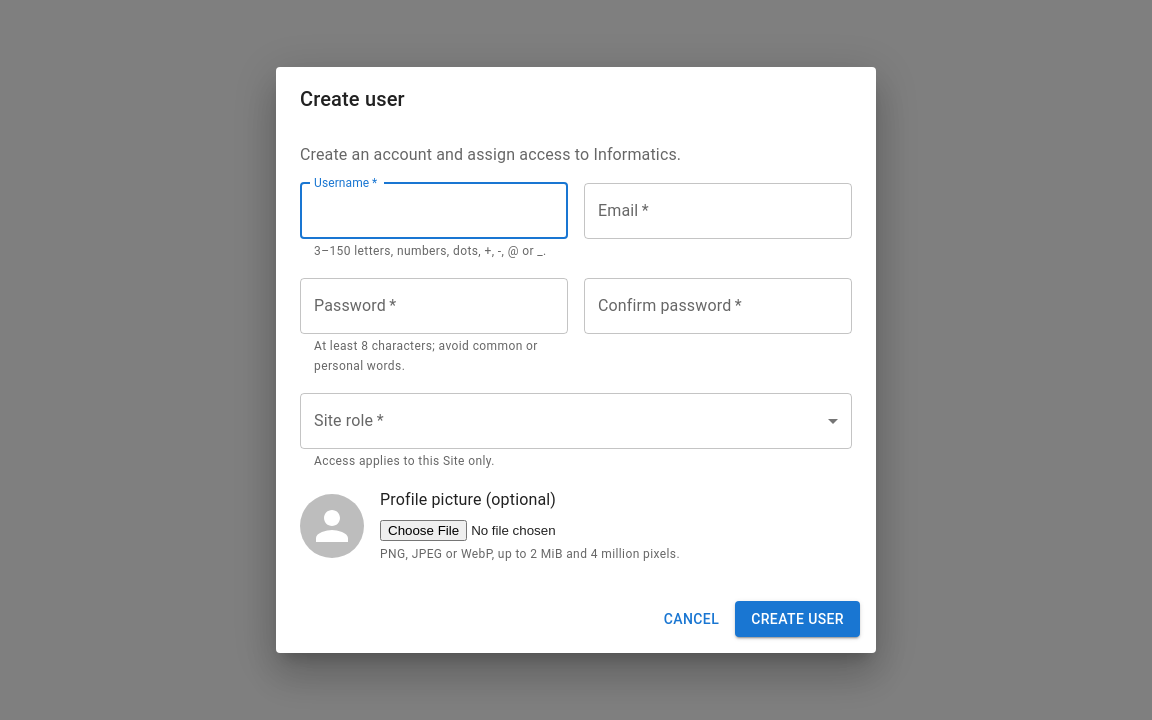
it: preserves inputs and focuses the field on recoverable rejection
In the field labelled "Username *": x=434, y=211 x1=300 y1=183 x2=568 y2=239, type "new.staff"
In the field labelled "Email *": x=718, y=211 x1=584 y1=183 x2=852 y2=239, type "new@example.edu"
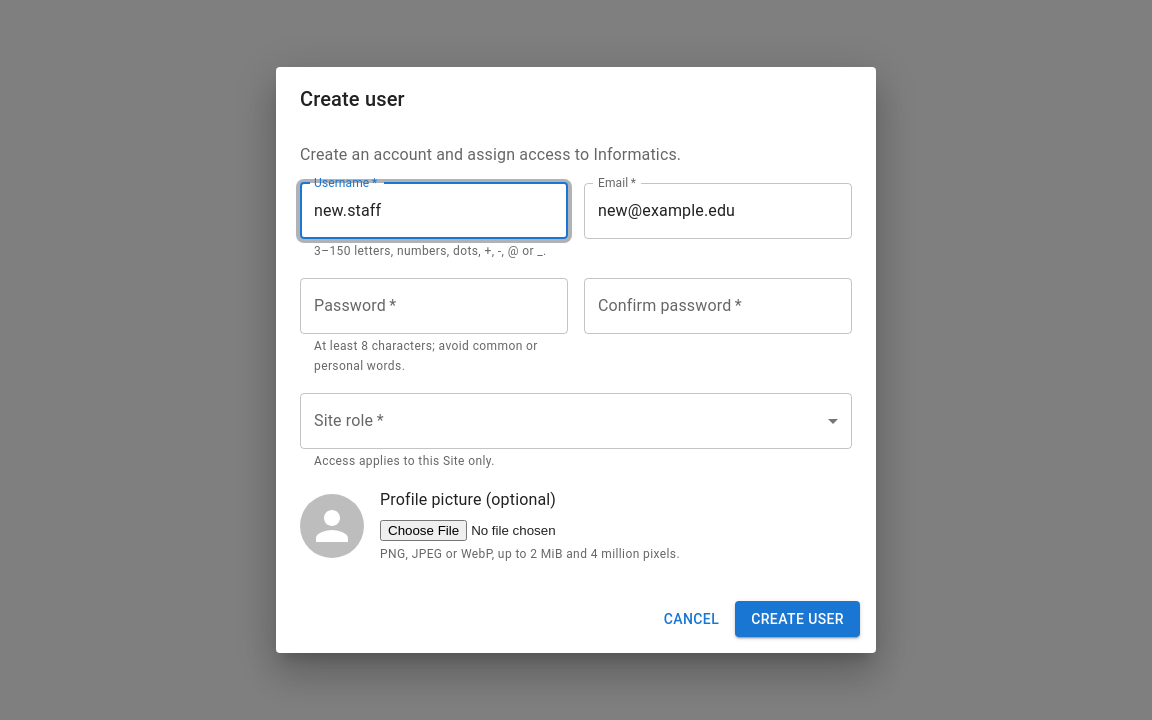
In the password field labelled "Password *": x=434, y=306 x1=300 y1=278 x2=568 y2=334, type "Campus!57832"
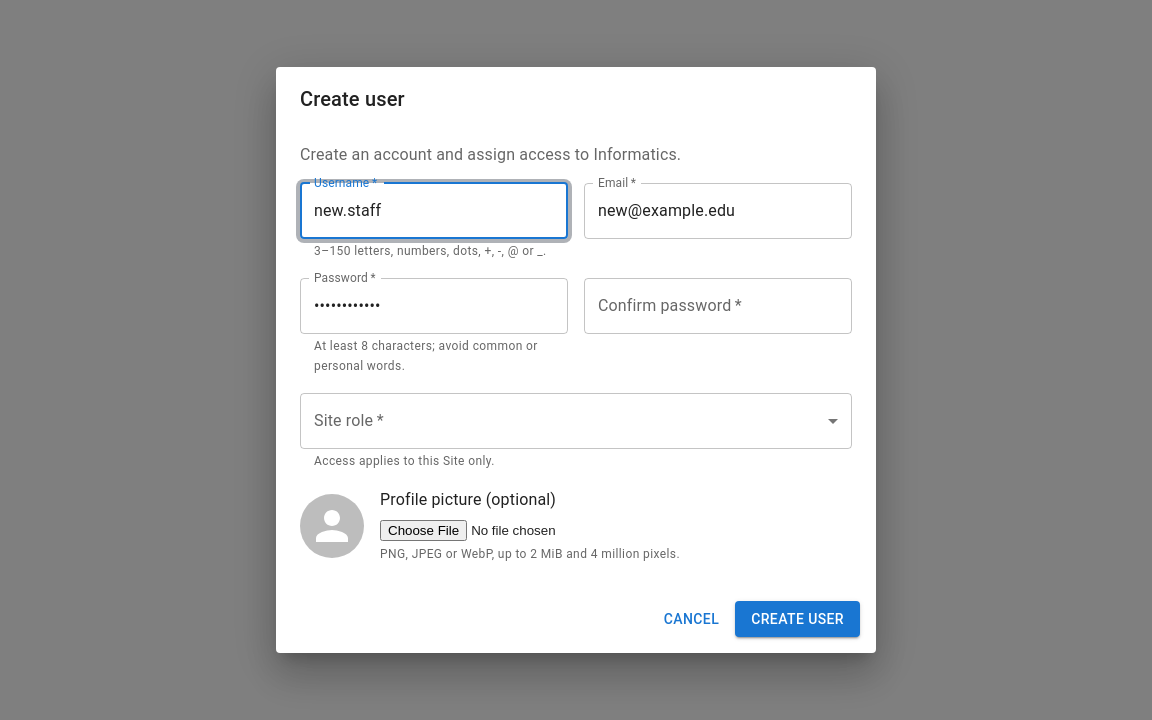
In the password field labelled "Confirm password *": x=718, y=306 x1=584 y1=278 x2=852 y2=334, type "Campus!57832"
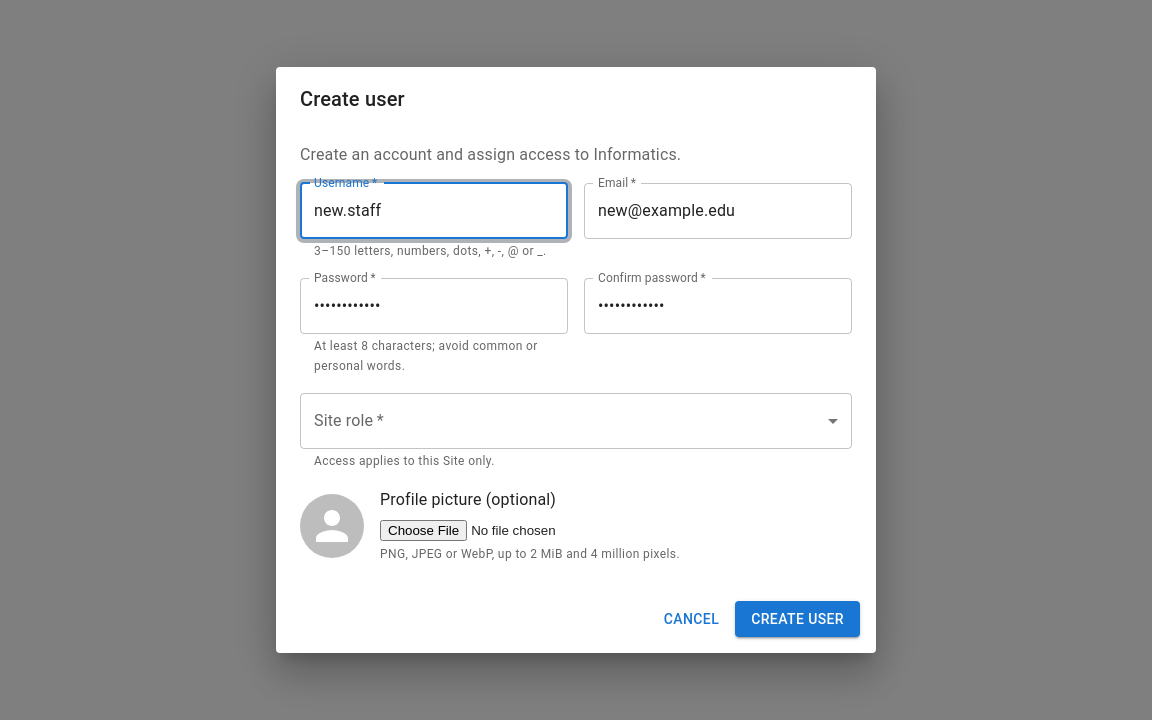
Press the mouse on the dropdown named "Site role": x=576, y=421 x1=300 y1=393 x2=852 y2=449
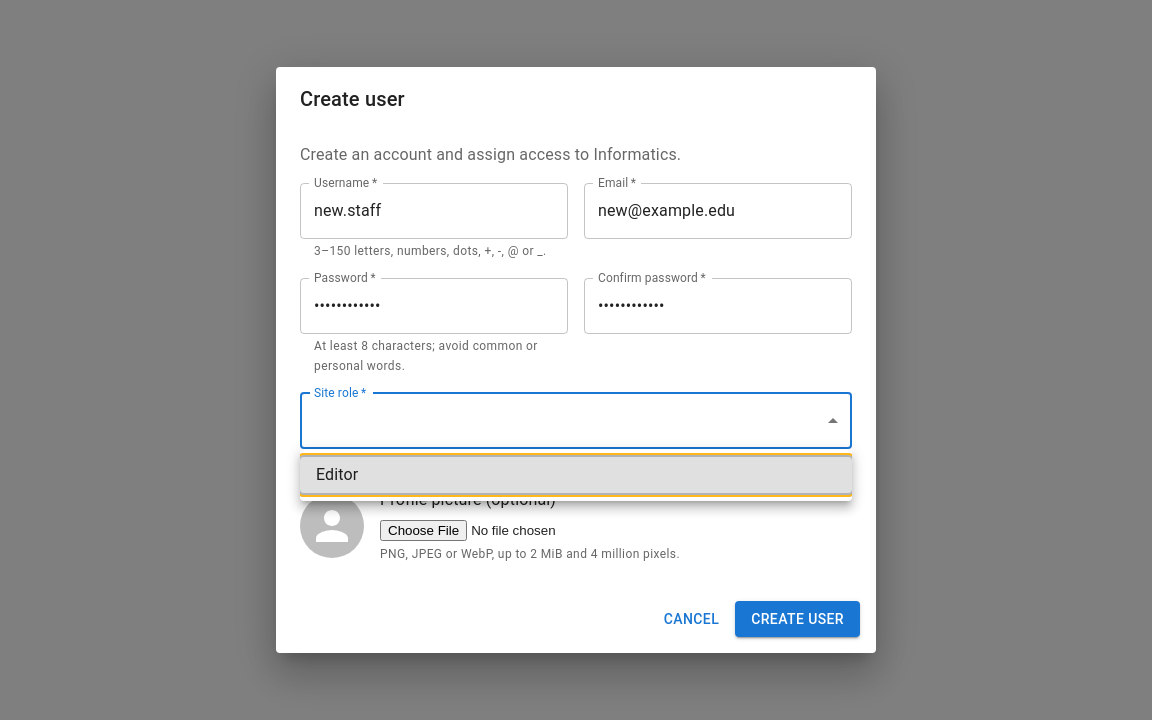
Click the option "Editor": x=337, y=474 x1=300 y1=457 x2=852 y2=493
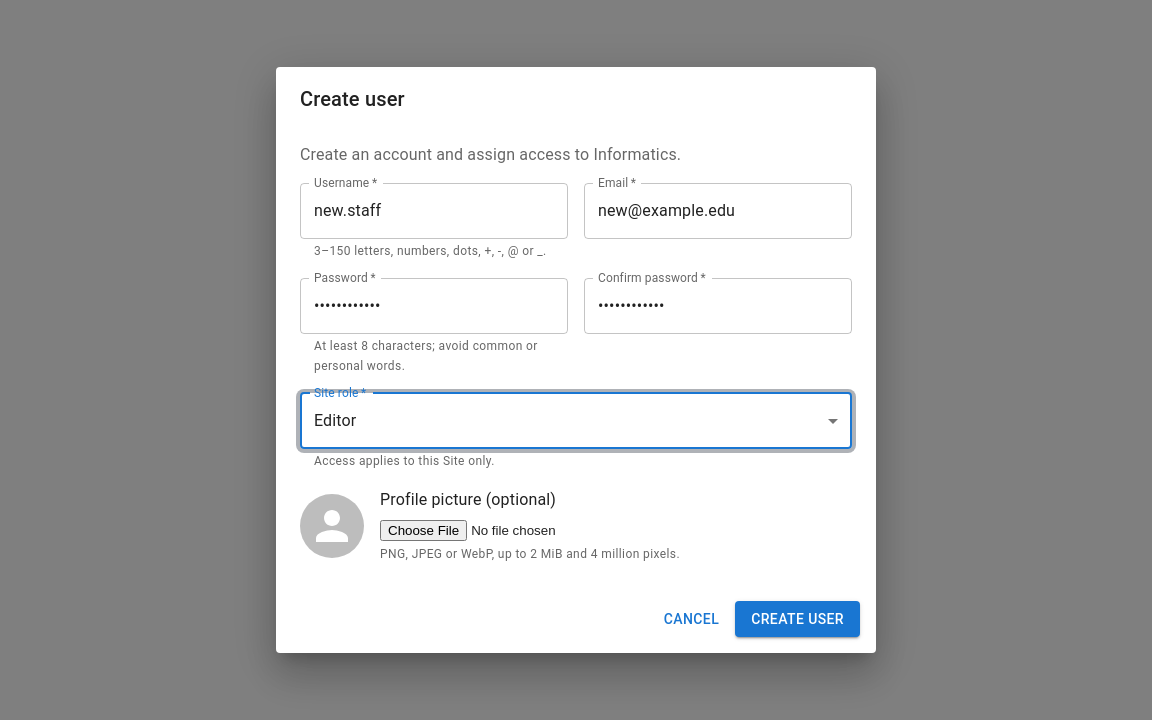
Submit the form, box x1=276 y1=67 x2=876 y2=653
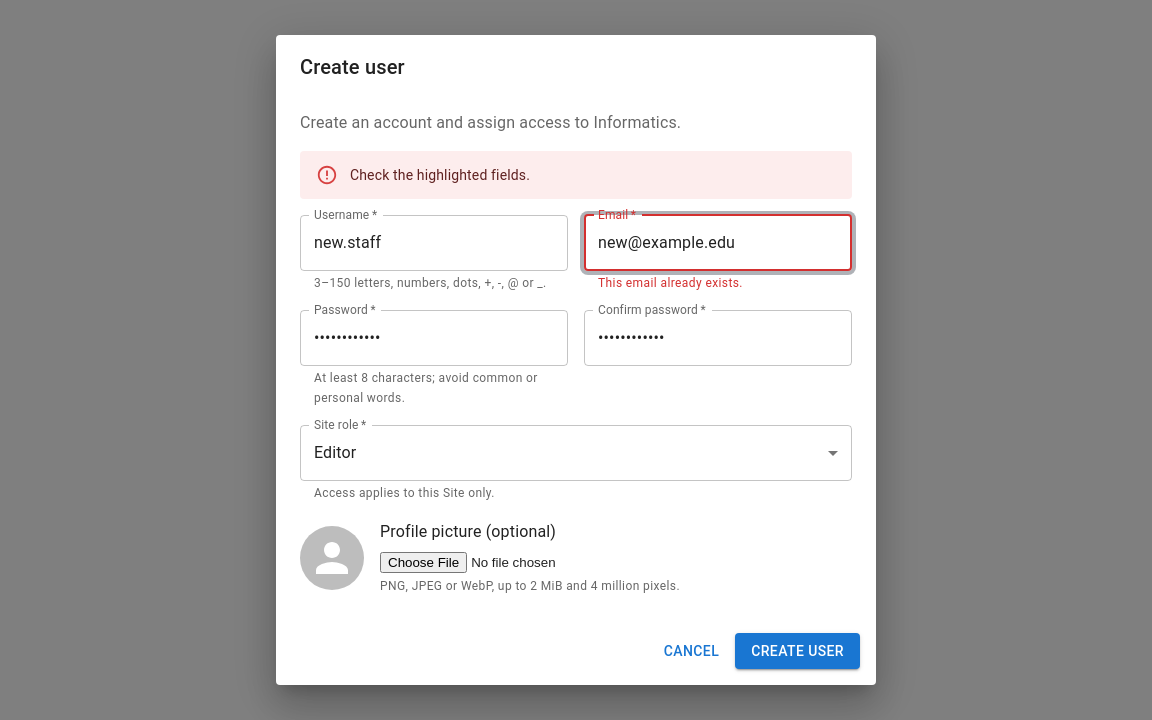
Check: the text "This email already exists." is shown, box x1=598 y1=276 x2=743 y2=290
